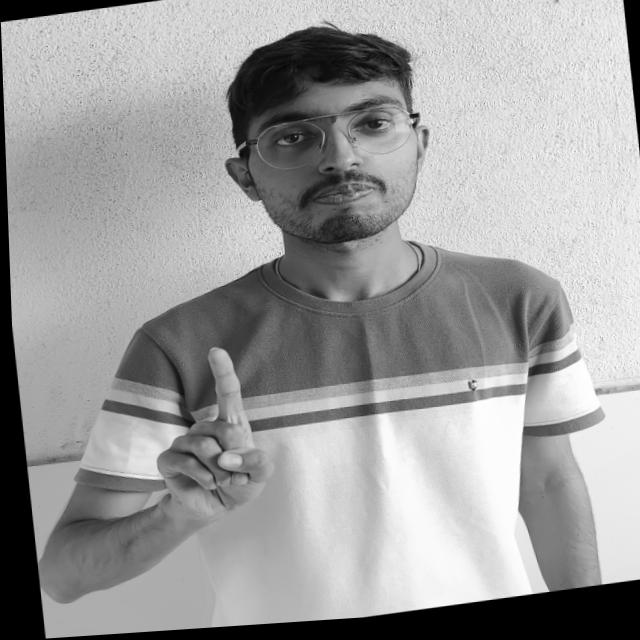Question: (94, 333, 317, 556)
